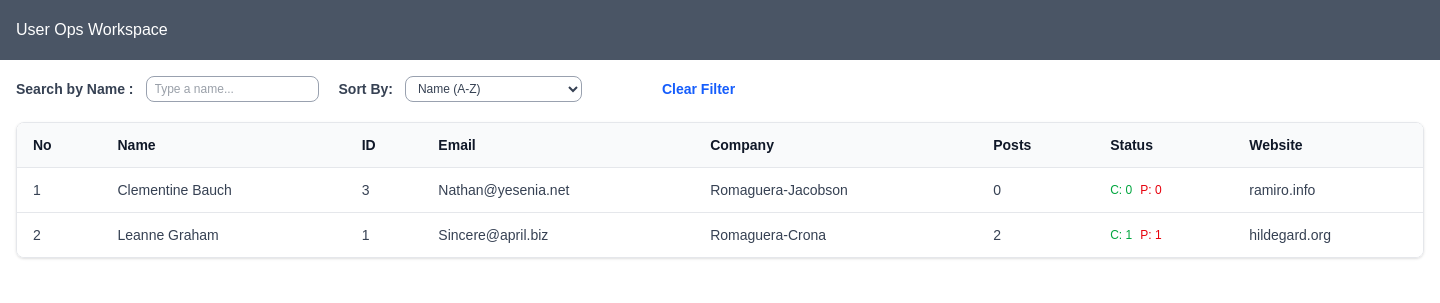
Test: UserList Task Alignment Tests › should handle empty states gracefully when no users match search
In the field with placeholder "Type a name...": (232, 89) [146,76,318,102], type "Unknown User"
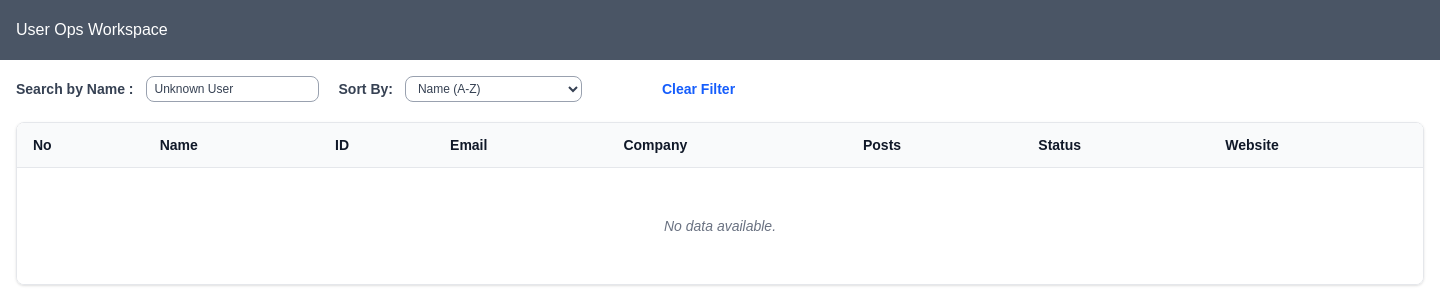
Expected: the text "Leanne Graham" is gone
Expected: the text "Clementine Bauch" is gone
